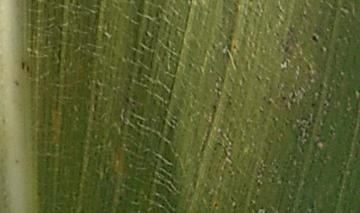tarspot: (310, 34, 318, 43), (56, 24, 63, 32), (20, 60, 25, 71), (25, 64, 31, 73), (211, 103, 217, 111), (124, 96, 130, 103), (133, 197, 139, 204), (309, 202, 315, 209), (213, 201, 218, 209), (328, 128, 333, 136), (281, 95, 287, 101), (310, 102, 316, 108), (130, 108, 136, 114), (232, 43, 238, 49), (266, 99, 272, 105), (248, 199, 254, 205), (283, 120, 288, 127), (321, 102, 328, 107), (129, 114, 134, 120), (273, 164, 279, 169), (259, 205, 264, 210), (262, 209, 268, 213)
